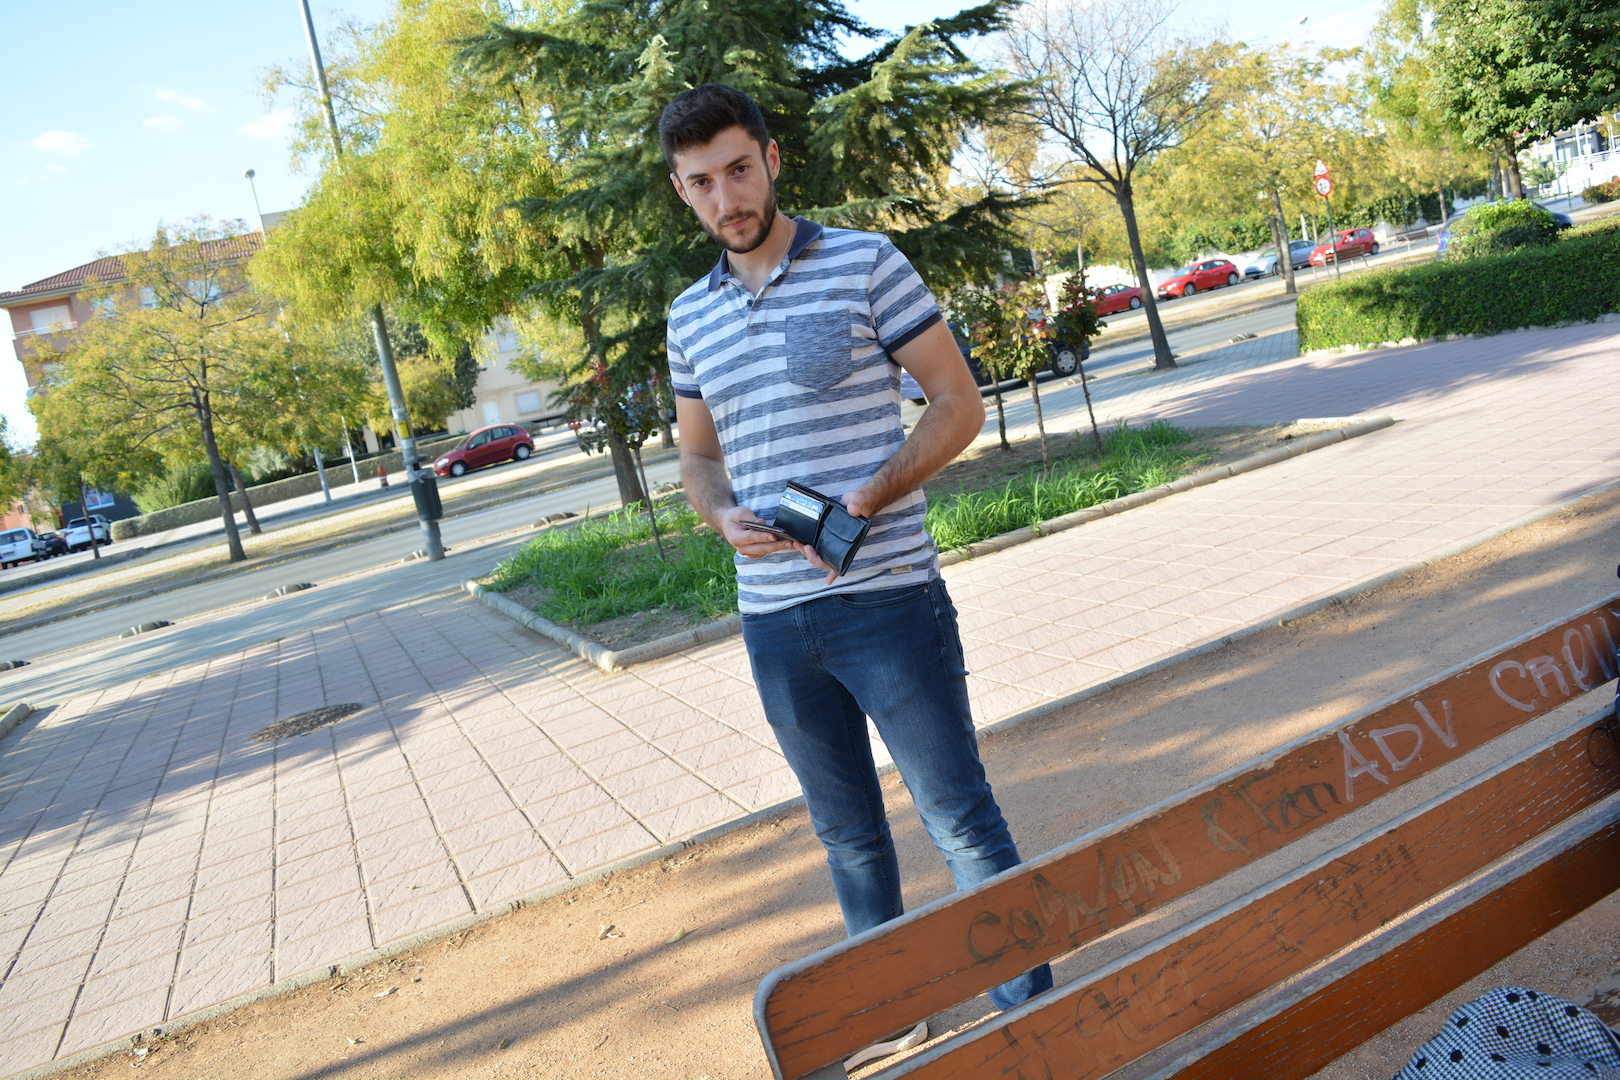monedero: (739, 480, 873, 579)
